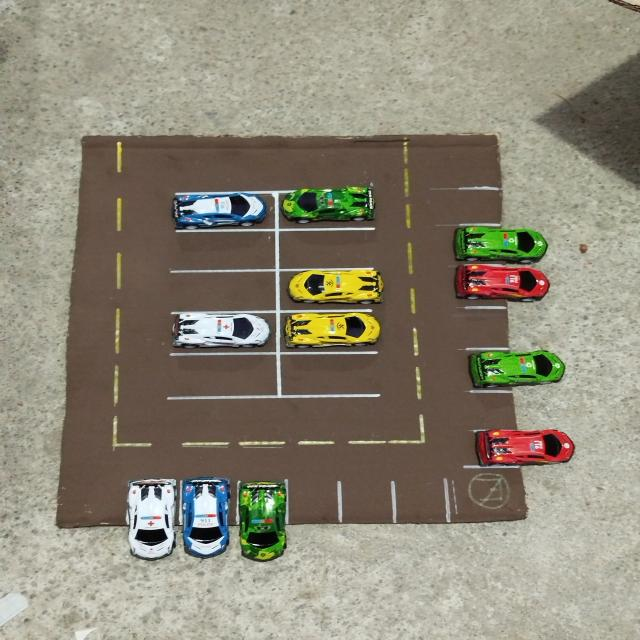libre: (59, 477, 126, 562), (168, 353, 280, 396), (461, 308, 572, 348), (279, 352, 378, 396), (170, 271, 278, 311), (170, 230, 278, 270), (392, 478, 447, 550), (287, 479, 340, 552), (339, 478, 392, 550), (277, 230, 377, 268), (470, 391, 570, 428), (456, 189, 540, 224)
no_estacionarse: (448, 466, 526, 522)
ocupado: (126, 478, 181, 561), (180, 476, 236, 557), (465, 348, 569, 391), (278, 269, 384, 311), (169, 312, 278, 352), (237, 477, 288, 562), (278, 311, 381, 352), (472, 429, 576, 468), (454, 265, 550, 307), (167, 193, 277, 229), (453, 224, 551, 264), (277, 191, 374, 229)
